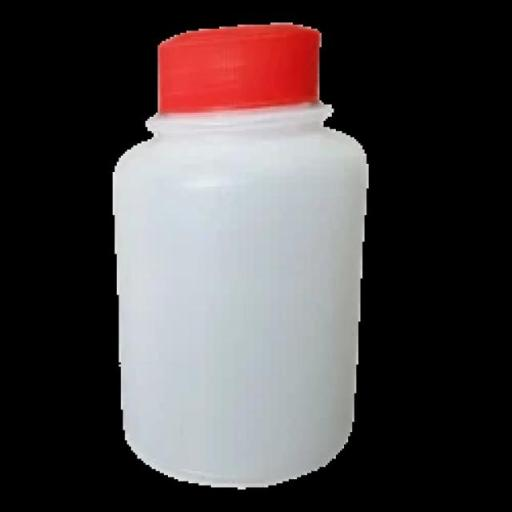plastic: (110, 21, 370, 484)
